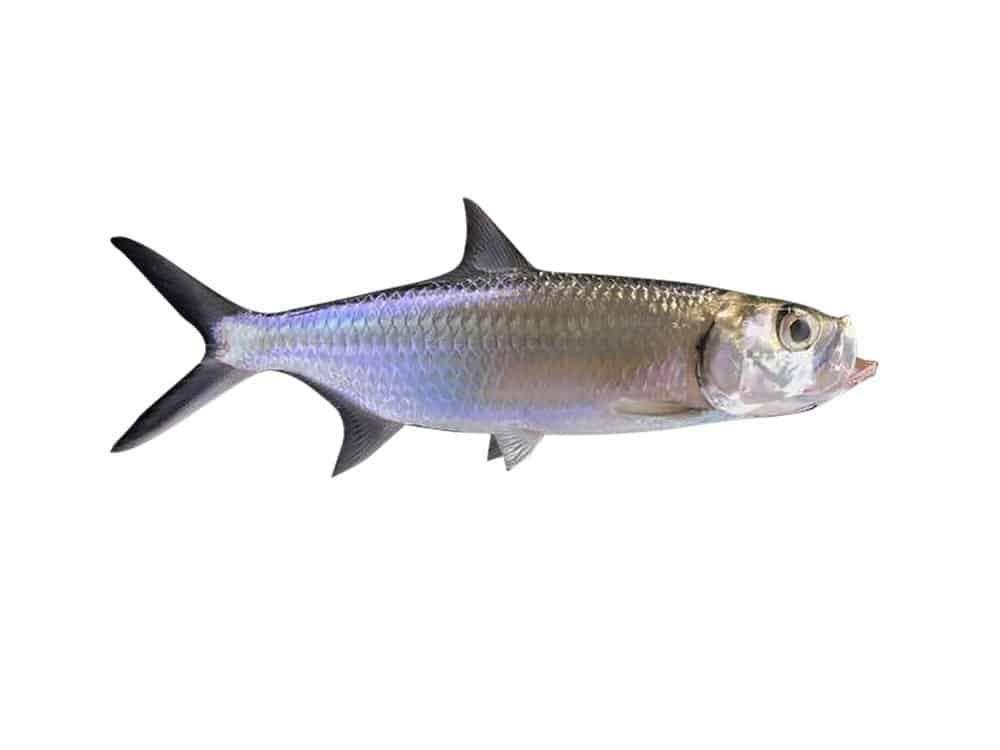Indo-Pacific Tarpon: (109, 194, 894, 476)
